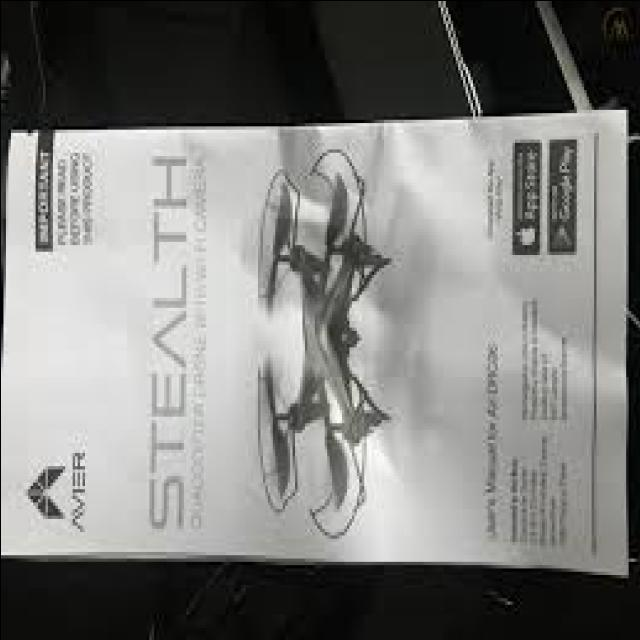drone: (245, 130, 401, 542)
